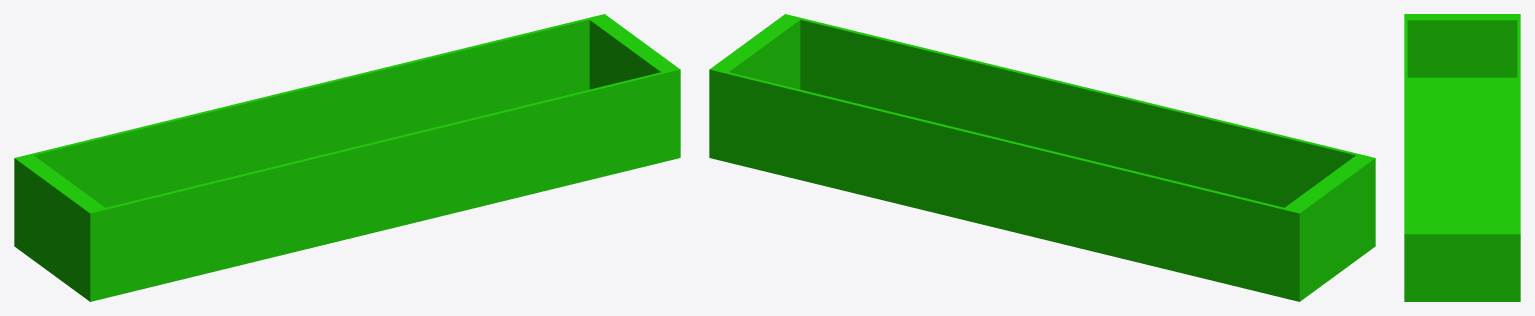
File: Level1.fbx
The picture shows the model from 3 angles, left to right: view 1: azimuth 30°, elevation 25°; view 2: azimuth 150°, elevation 25°; view 3: azimuth 270°, elevation 25°; orthographic projection. The views are drawn at different scales.
Parts seen in each view (by area): view 1: Cube.001; view 2: Cube.001; view 3: Cube.001.
Boxes of the visible parts, x1,y1,x2,y2 form: Cube.001: (14,14,680,301); Cube.001: (709,14,1375,301); Cube.001: (1404,14,1520,301).
Size of the model in its own units: 3016 by 432 by 672.
